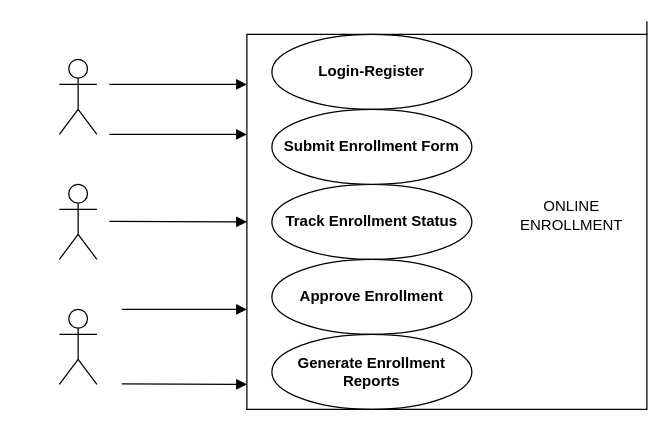
This 669x433 diagram has some shape labels left out. Here are the shapes that lost their labels. From the top down, the centre of each, then its label:
(77,96): Student
(77,221): Admin
(77,346): Registrar or Staff
